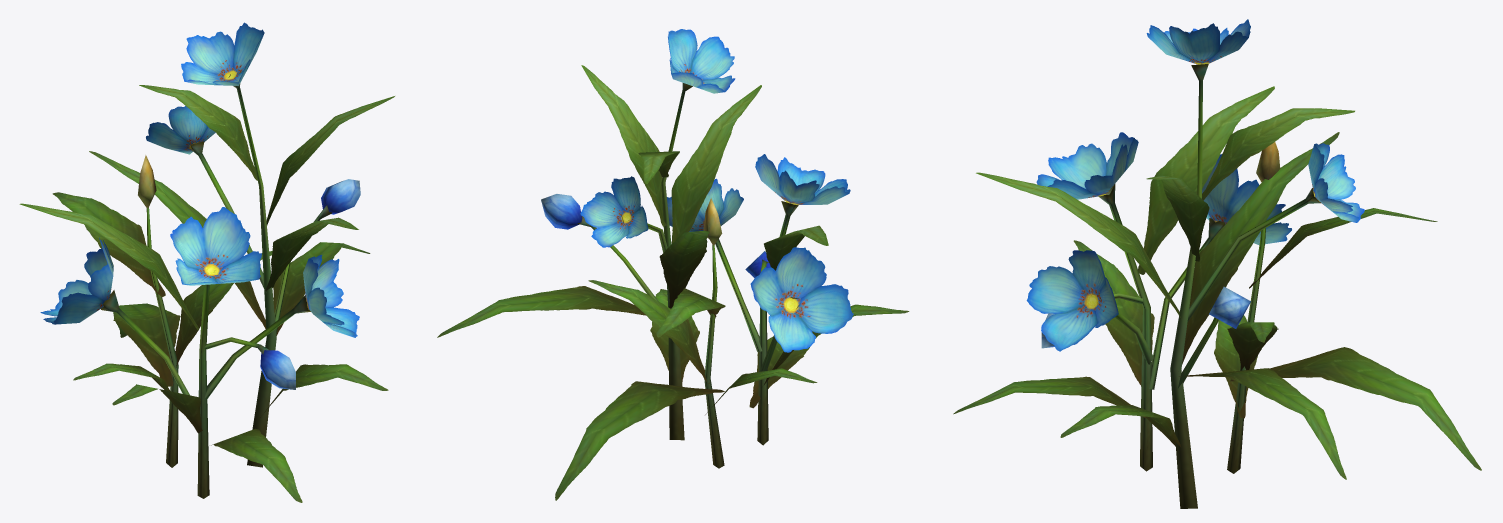
Rendered from wm_灌木绿绒蒿01.fbx.
3 views of the same model, side by side, from view 1: azimuth 30°, elevation 25°; view 2: azimuth 150°, elevation 25°; view 3: azimuth 270°, elevation 25° (orthographic). The views are drawn at different scales.
Visible parts, largest first — view 1: wm_灌木绿绒蒿01; view 2: wm_灌木绿绒蒿01; view 3: wm_灌木绿绒蒿01.
Part boxes in pixels (<box>): wm_灌木绿绒蒿01: <box>19,22,394,502</box>; wm_灌木绿绒蒿01: <box>437,29,909,500</box>; wm_灌木绿绒蒿01: <box>953,19,1481,508</box>.
Bounding box in the file's own units: 202 × 213 × 211.
